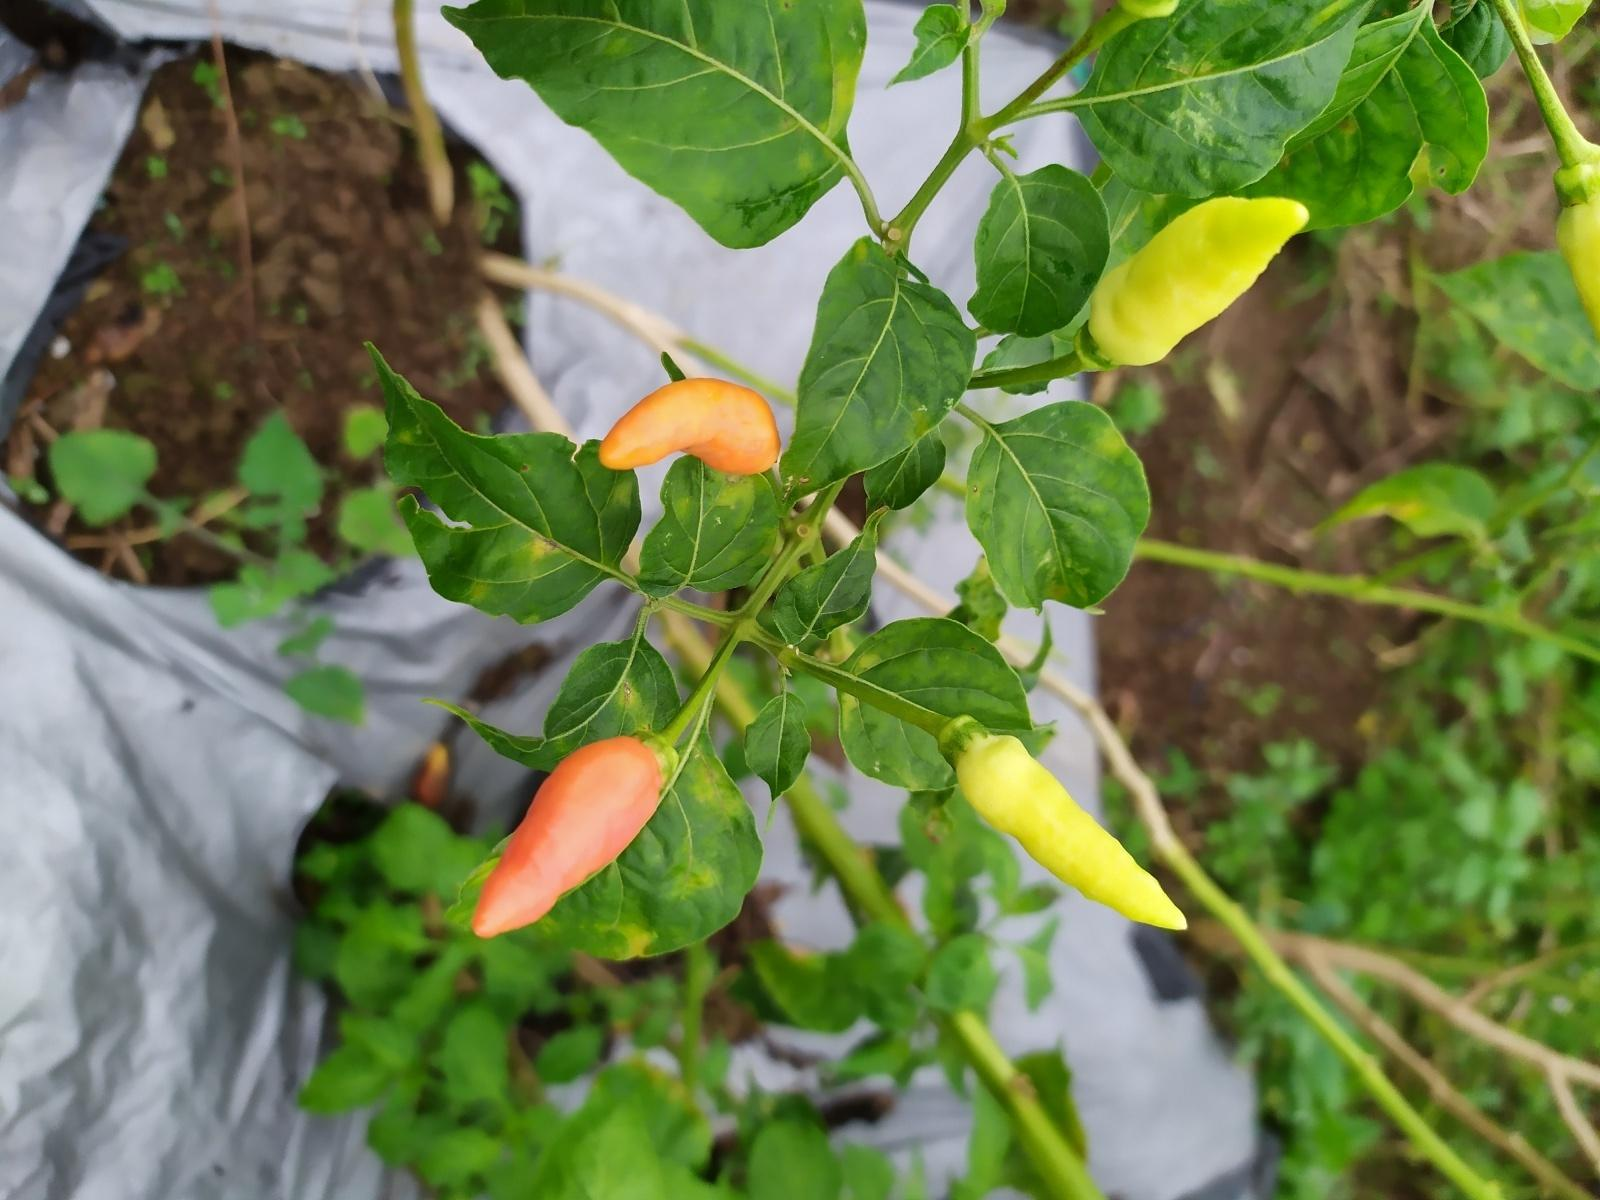cabai_normal: (952, 732, 1187, 930), (471, 735, 663, 939), (1086, 195, 1311, 367), (597, 377, 781, 476)
